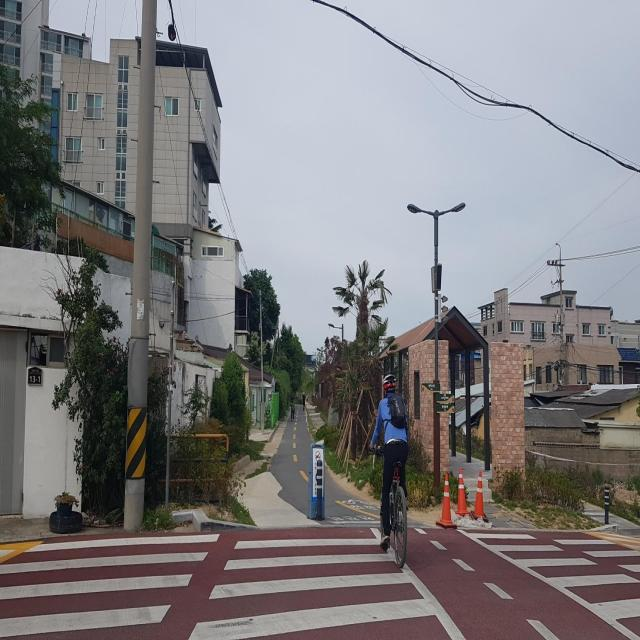횡단보도: (0, 528, 466, 640), (463, 525, 640, 636)
